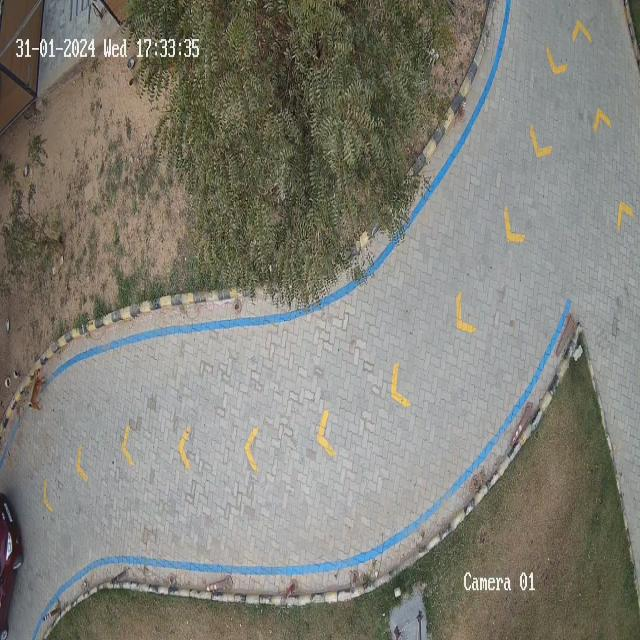car: (0, 493, 24, 637)
